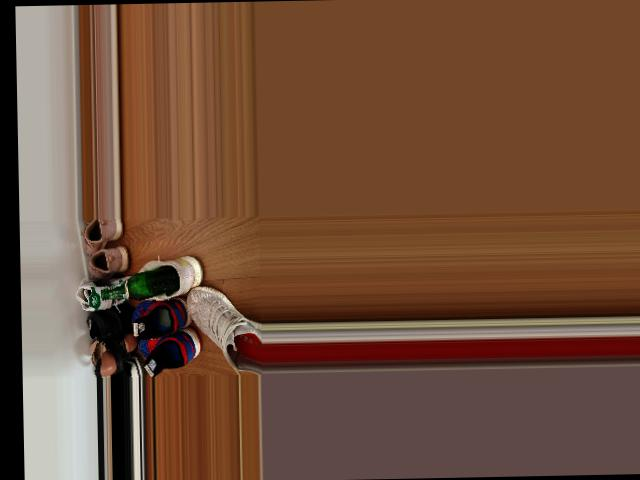beer: (101, 266, 180, 301)
